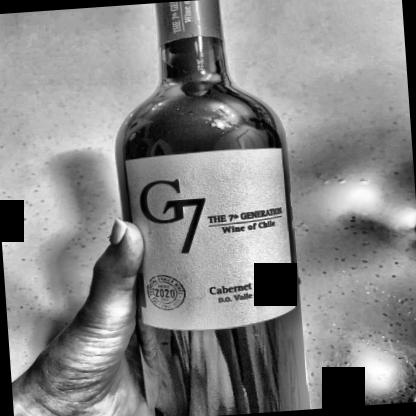G7: (122, 143, 301, 337)
